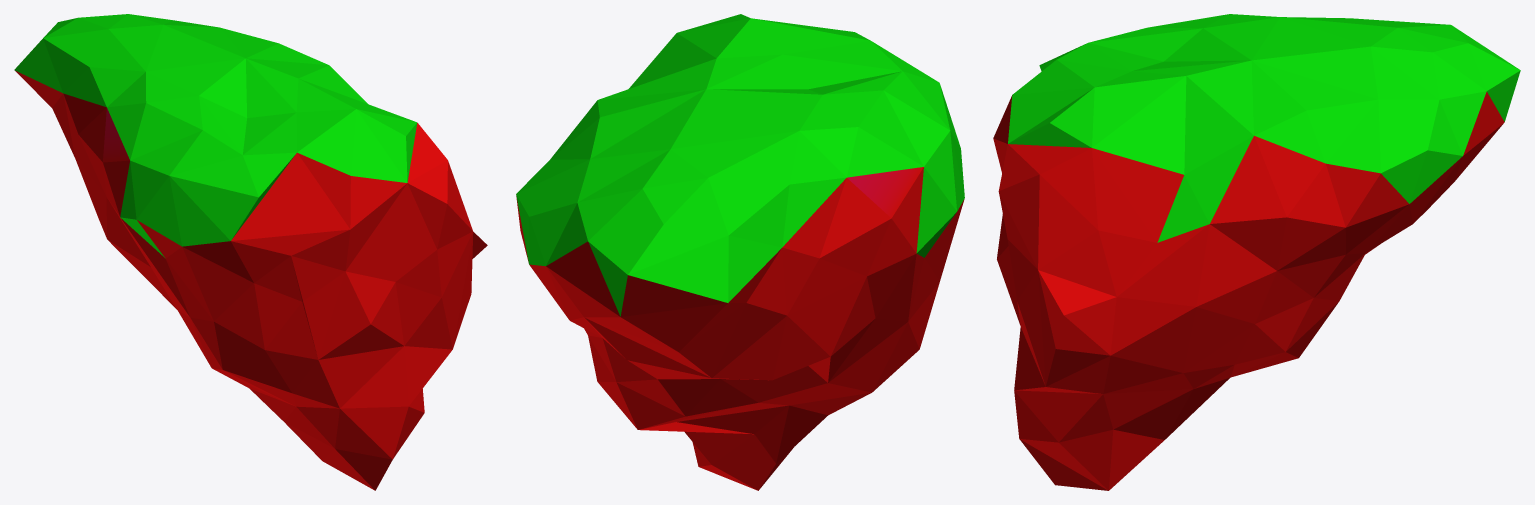
The model's file is Isle_Controllable_V5x7_1_Collider.fbx.
3 renders of one model, left to right at view 1: azimuth 30°, elevation 25°; view 2: azimuth 150°, elevation 25°; view 3: azimuth 270°, elevation 25°, orthographic. The views are drawn at different scales.
Parts seen in each view (by area): view 1: Isle_Controllable_V5x7_1_Collider; view 2: Isle_Controllable_V5x7_1_Collider; view 3: Isle_Controllable_V5x7_1_Collider.
Part boxes in pixels (left/top/right/bottom): Isle_Controllable_V5x7_1_Collider: left=14, top=14, right=487, bottom=490; Isle_Controllable_V5x7_1_Collider: left=516, top=14, right=964, bottom=490; Isle_Controllable_V5x7_1_Collider: left=993, top=14, right=1520, bottom=490.
Bounding box in the file's own units: 493 × 574 × 678.
